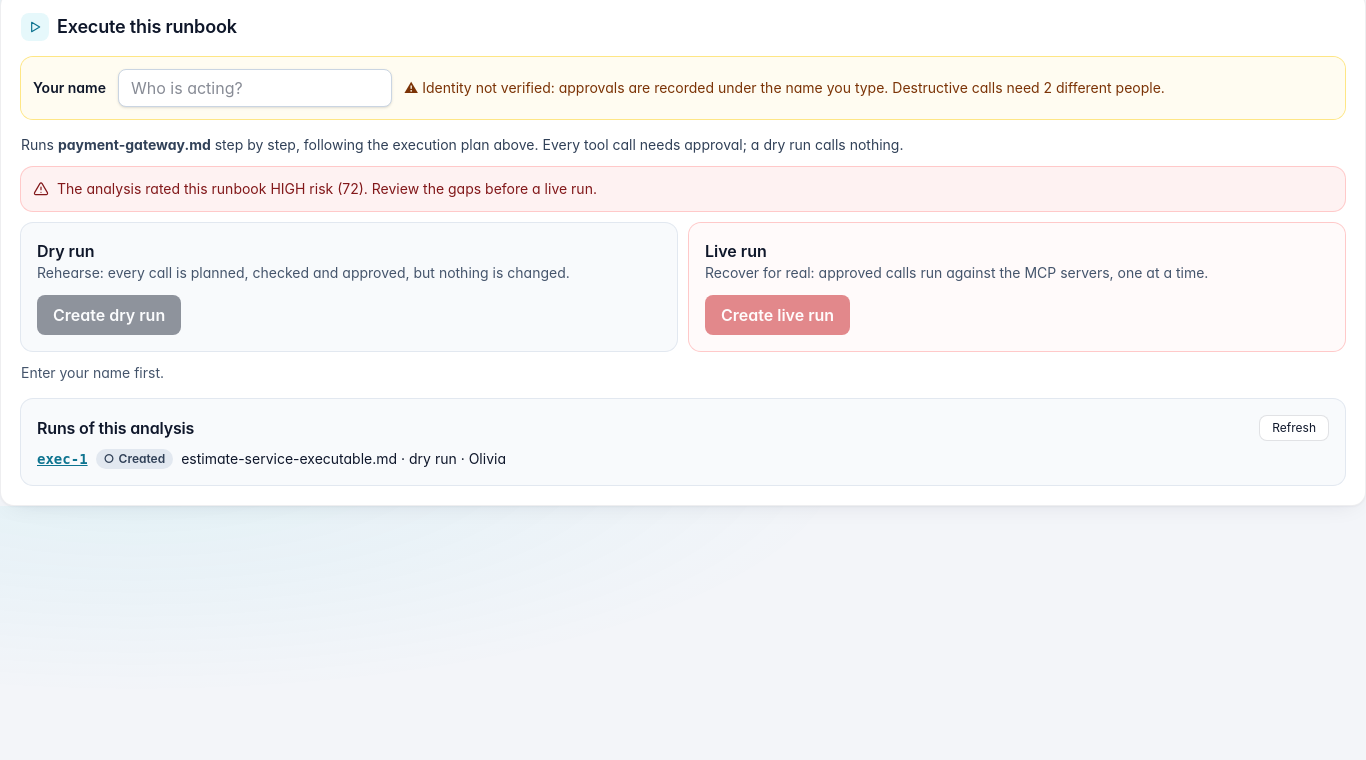
Test: HistoricalInsights › puts previous runs on the execution step cards
In the field labelled "Your name": (255, 88) x1=118 y1=69 x2=392 y2=107, type "Ann"
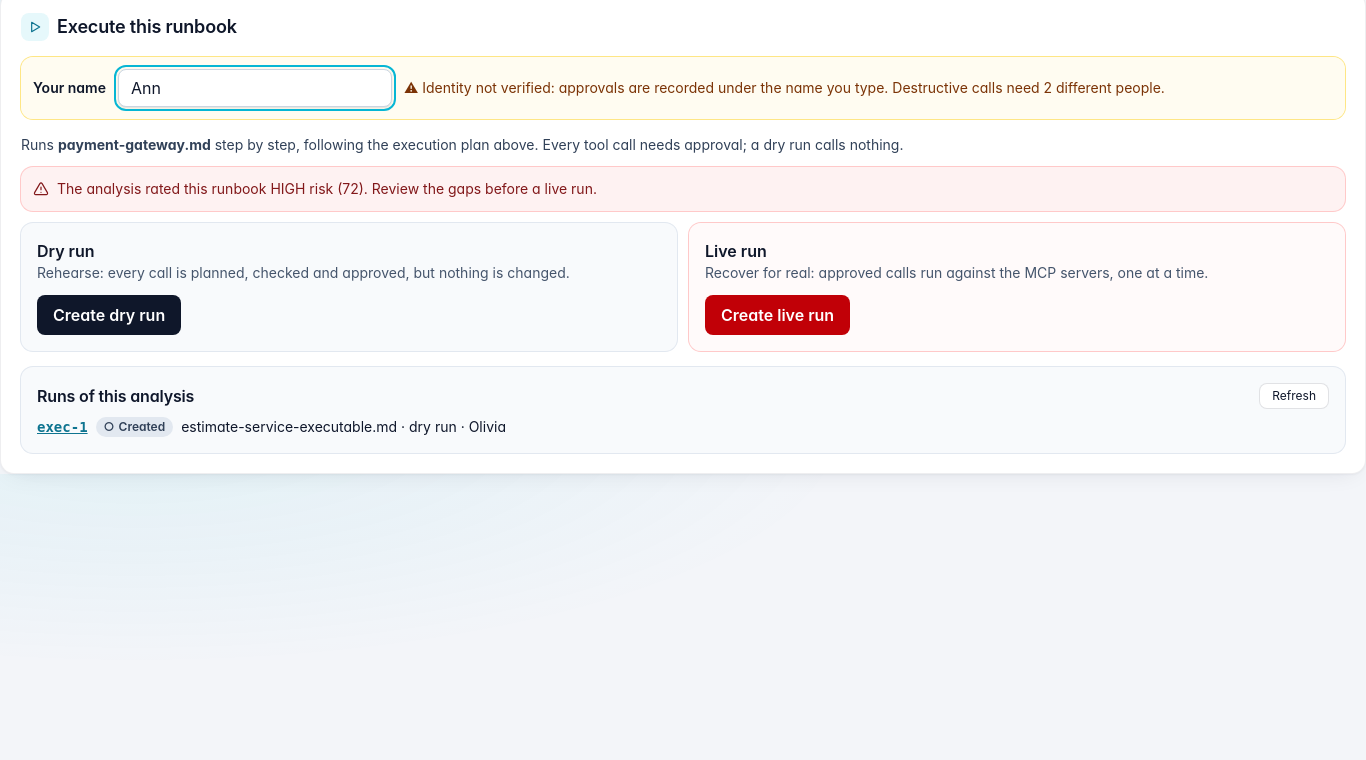
Click the button "Create dry run": (109, 315) x1=37 y1=295 x2=181 y2=335
(page scrolled)
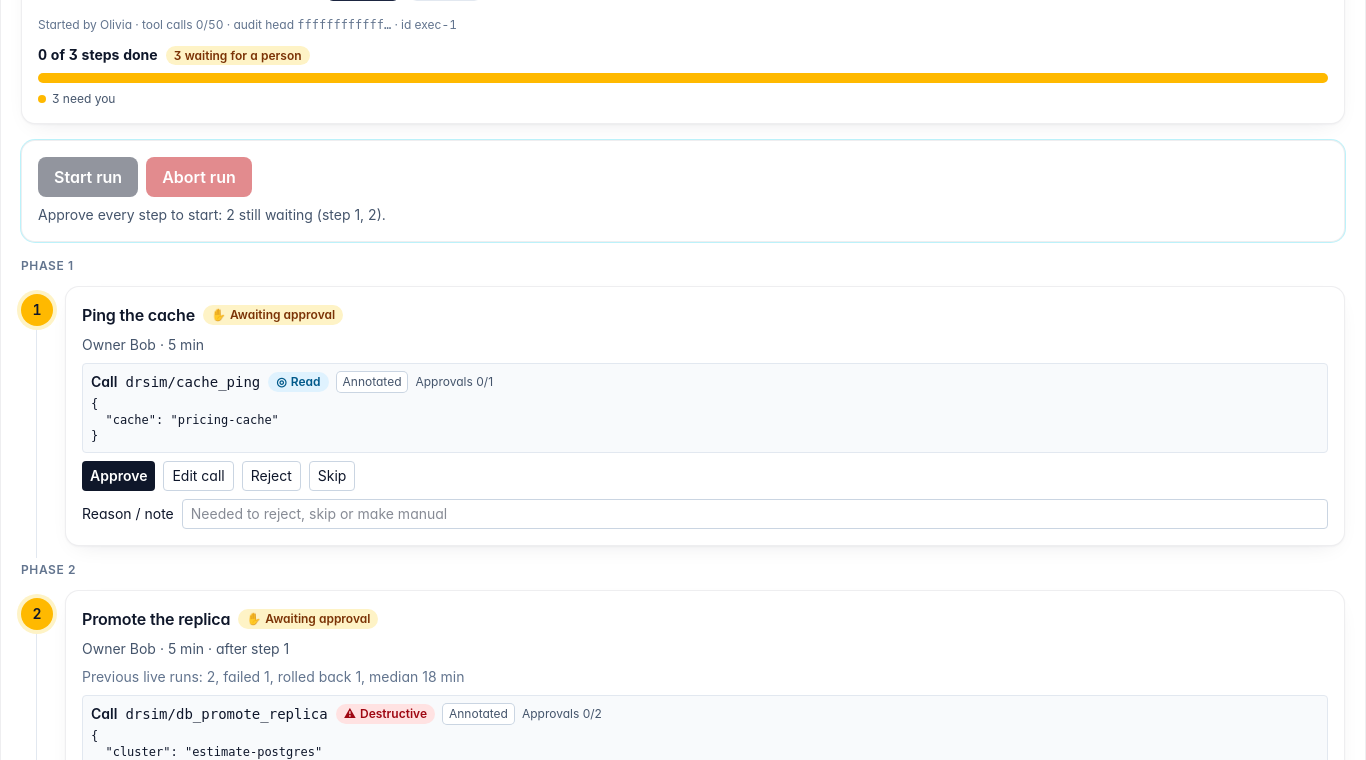
Expected: the element named "Step 1" does not show "Previous live runs", x1=21 y1=286 x2=1345 y2=546
Expected: the element named "Step 2" shows "Previous live runs: 2, failed 1, rolled back 1, median 18 min", x1=82 y1=668 x2=464 y2=685
